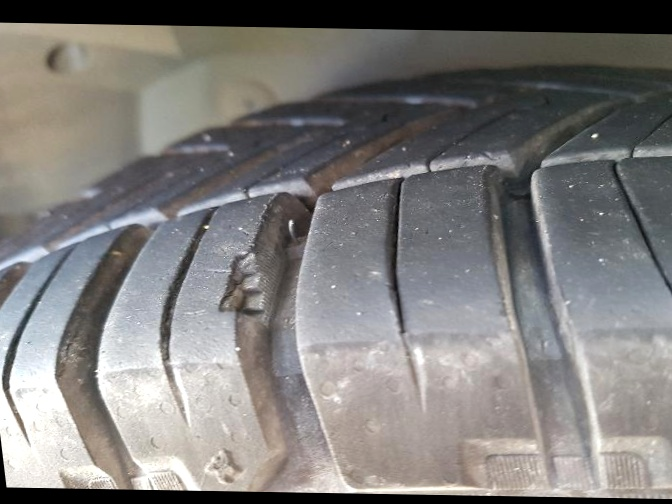temoin:90: (204, 235, 300, 337)
